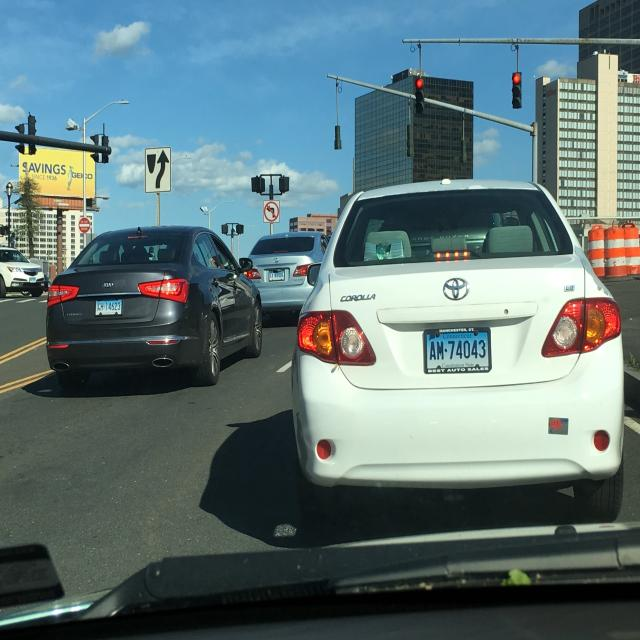license: (416, 321, 502, 387), (89, 290, 130, 331)
